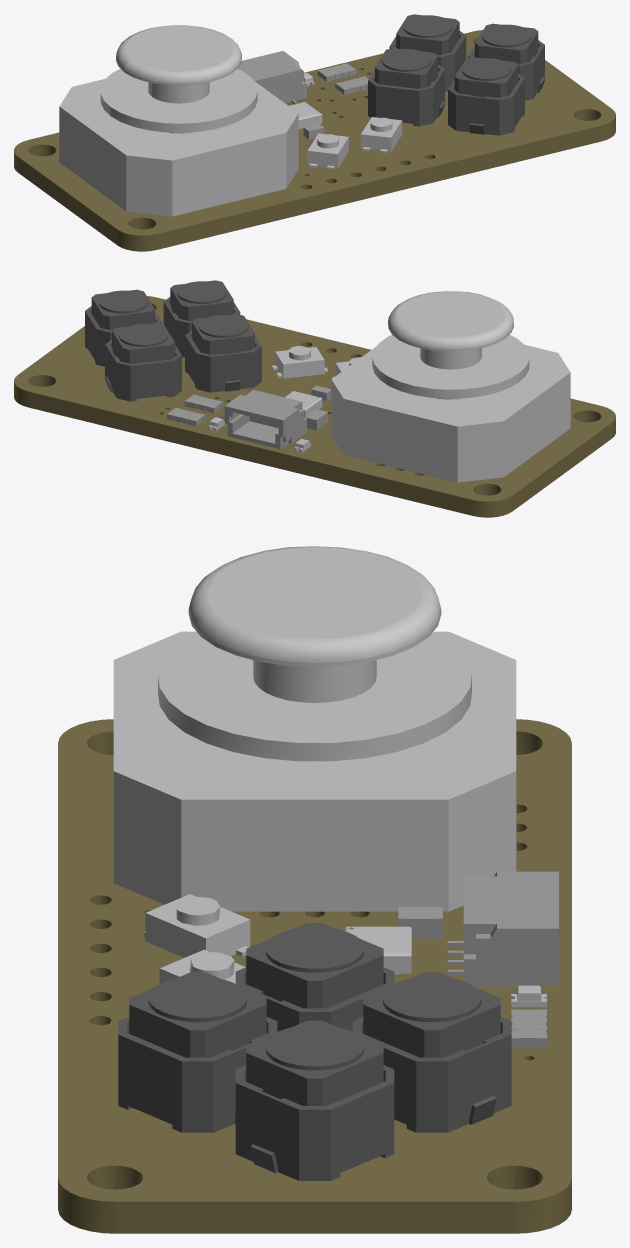
The model's file is ada-5743.glb.
3 views of the same model, one above another, from view 1: azimuth 30°, elevation 25°; view 2: azimuth 150°, elevation 25°; view 3: azimuth 270°, elevation 25° (orthographic). The views are drawn at different scales.
Parts seen in each view (by area): view 1: 0.5833333333333334_0.5833333333333334_0.5833333333333334_0.8, 0.16666666666666666_0.16666666666666666_0.08333333333333333_, 0.08333333333333333_0.08333333333333333_0.08333333333333333_, 0.3333333333333333_0.3333333333333333_0.3333333333333333_0; view 2: 0.5833333333333334_0.5833333333333334_0.5833333333333334_0.8, 0.16666666666666666_0.16666666666666666_0.08333333333333333_, 0.08333333333333333_0.08333333333333333_0.08333333333333333_, 0.3333333333333333_0.3333333333333333_0.3333333333333333_0; view 3: 0.5833333333333334_0.5833333333333334_0.5833333333333334_0.8, 0.16666666666666666_0.16666666666666666_0.08333333333333333_, 0.08333333333333333_0.08333333333333333_0.08333333333333333_, 0.3333333333333333_0.3333333333333333_0.3333333333333333_0.
Part boxes in pixels (x1,y1,x2,y2): 0.5833333333333334_0.5833333333333334_0.5833333333333334_0.8: [59, 25, 402, 216]; 0.16666666666666666_0.16666666666666666_0.08333333333333333_: [14, 30, 615, 251]; 0.08333333333333333_0.08333333333333333_0.08333333333333333_: [367, 14, 545, 135]; 0.3333333333333333_0.3333333333333333_0.3333333333333333_0: [238, 51, 368, 139]; 0.5833333333333334_0.5833333333333334_0.5833333333333334_0.8: [208, 291, 570, 482]; 0.16666666666666666_0.16666666666666666_0.08333333333333333_: [14, 296, 615, 517]; 0.08333333333333333_0.08333333333333333_0.08333333333333333_: [85, 280, 261, 401]; 0.3333333333333333_0.3333333333333333_0.3333333333333333_0: [166, 385, 331, 449]; 0.5833333333333334_0.5833333333333334_0.5833333333333334_0.8: [113, 546, 546, 1007]; 0.16666666666666666_0.16666666666666666_0.08333333333333333_: [58, 719, 571, 1233]; 0.08333333333333333_0.08333333333333333_0.08333333333333333_: [118, 923, 511, 1180]; 0.3333333333333333_0.3333333333333333_0.3333333333333333_0: [398, 871, 558, 1048].
Size of the model in its own units: 5.08 by 1.31 by 2.29.
